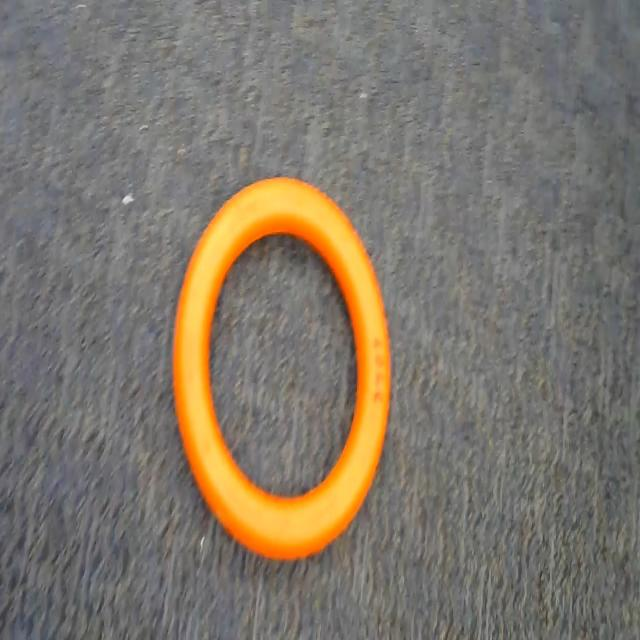note: (153, 154, 421, 565)
